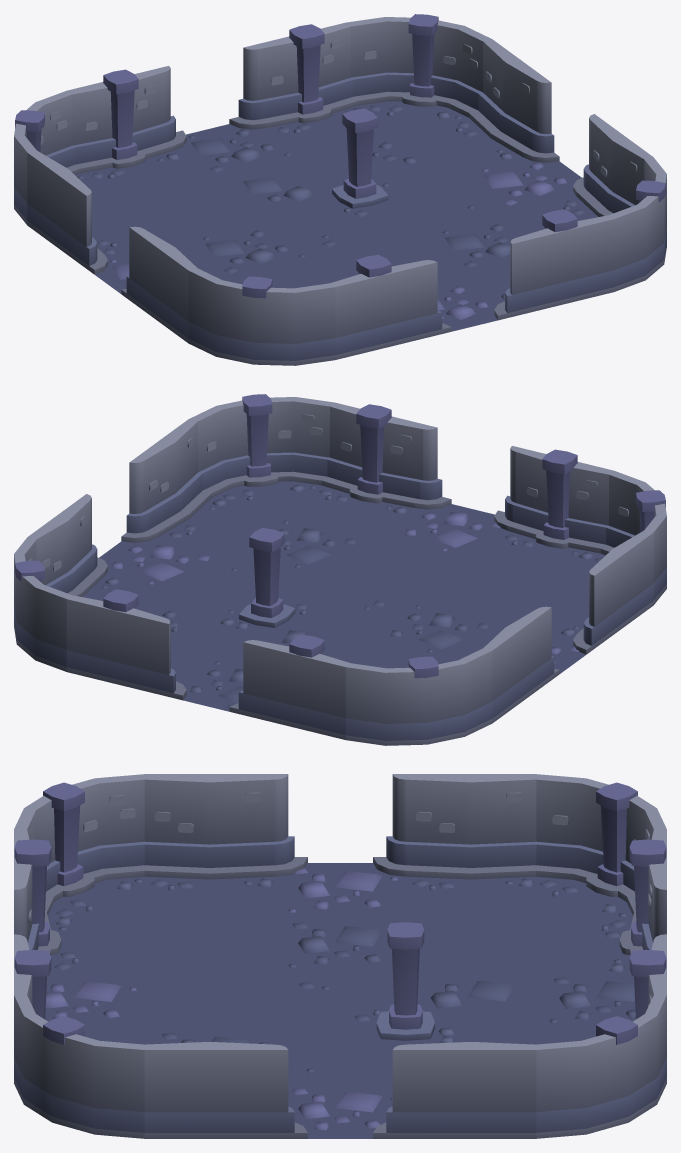
The model's file is room-large.fbx.
3 views of the same model, one above another, from view 1: azimuth 30°, elevation 25°; view 2: azimuth 150°, elevation 25°; view 3: azimuth 270°, elevation 25° (orthographic). The views are drawn at different scales.
Parts seen in each view (by area): view 1: room-large; view 2: room-large; view 3: room-large.
Boxes of the visible parts, bbox=[...] form: room-large: bbox=[14, 14, 666, 365]; room-large: bbox=[14, 394, 666, 745]; room-large: bbox=[14, 774, 666, 1138].
Bounding box in the file's own units: 2000 × 333 × 2000.
1 material, 1 textured.
